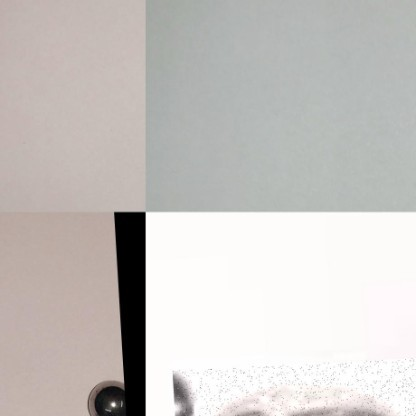ironball: (167, 359, 415, 415), (84, 376, 126, 415)
